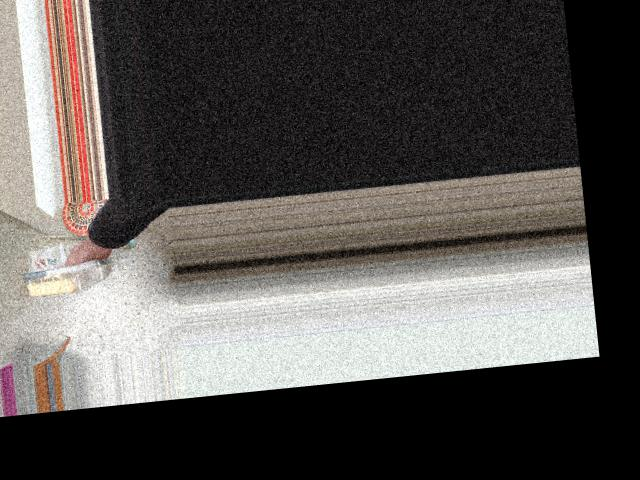cheese: (18, 240, 110, 308)
